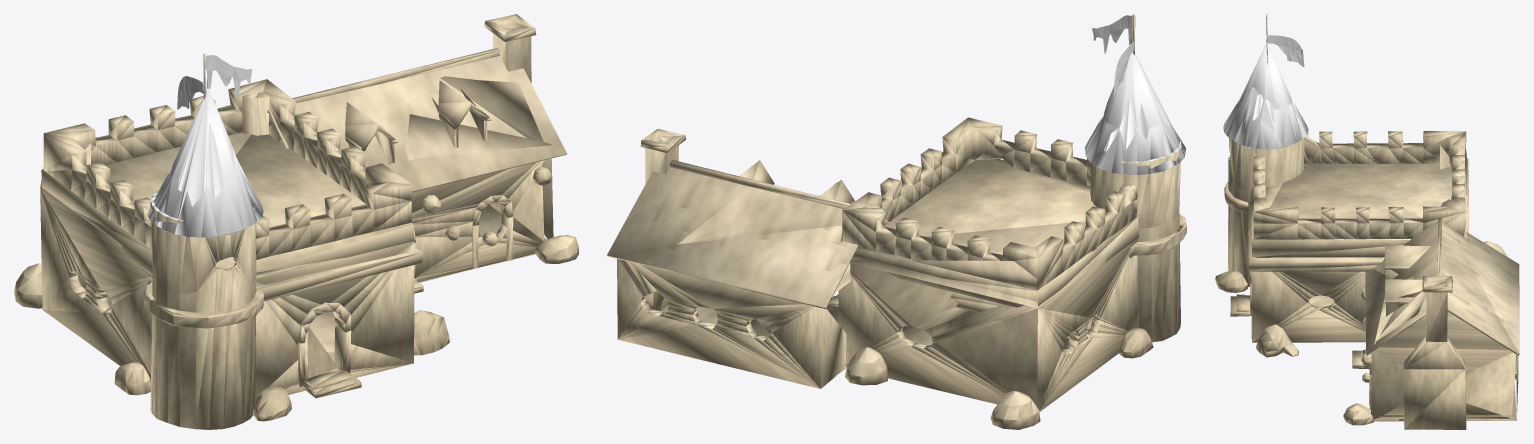
3 views of the same model, side by side, from view 1: azimuth 30°, elevation 25°; view 2: azimuth 150°, elevation 25°; view 3: azimuth 270°, elevation 25° (orthographic). The views are drawn at different scales.
Visible parts, largest first — view 1: castle_d1.7; view 2: castle_d1.7; view 3: castle_d1.7.
Boxes of the visible parts, x1,y1,x2,y2 form: castle_d1.7: (14,14,578,429); castle_d1.7: (607,14,1186,429); castle_d1.7: (1215,14,1519,429).
Size of the model in its own units: 2.9 by 2.02 by 2.14.
Materials: 2 (1 with a texture image).
